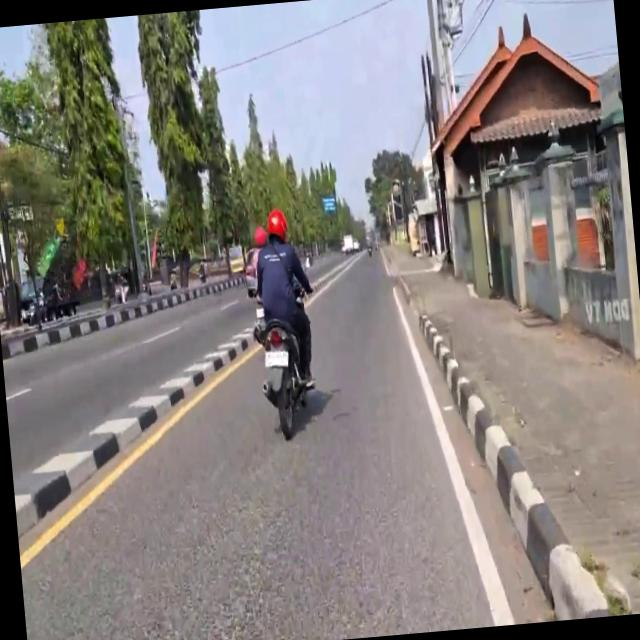WithHelmet: (250, 205, 322, 392), (243, 225, 277, 339)
